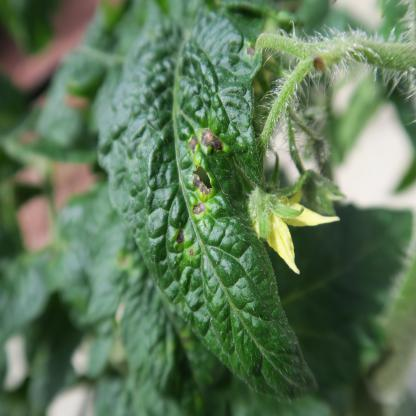Tomato leaf late blight: (108, 15, 310, 404)
